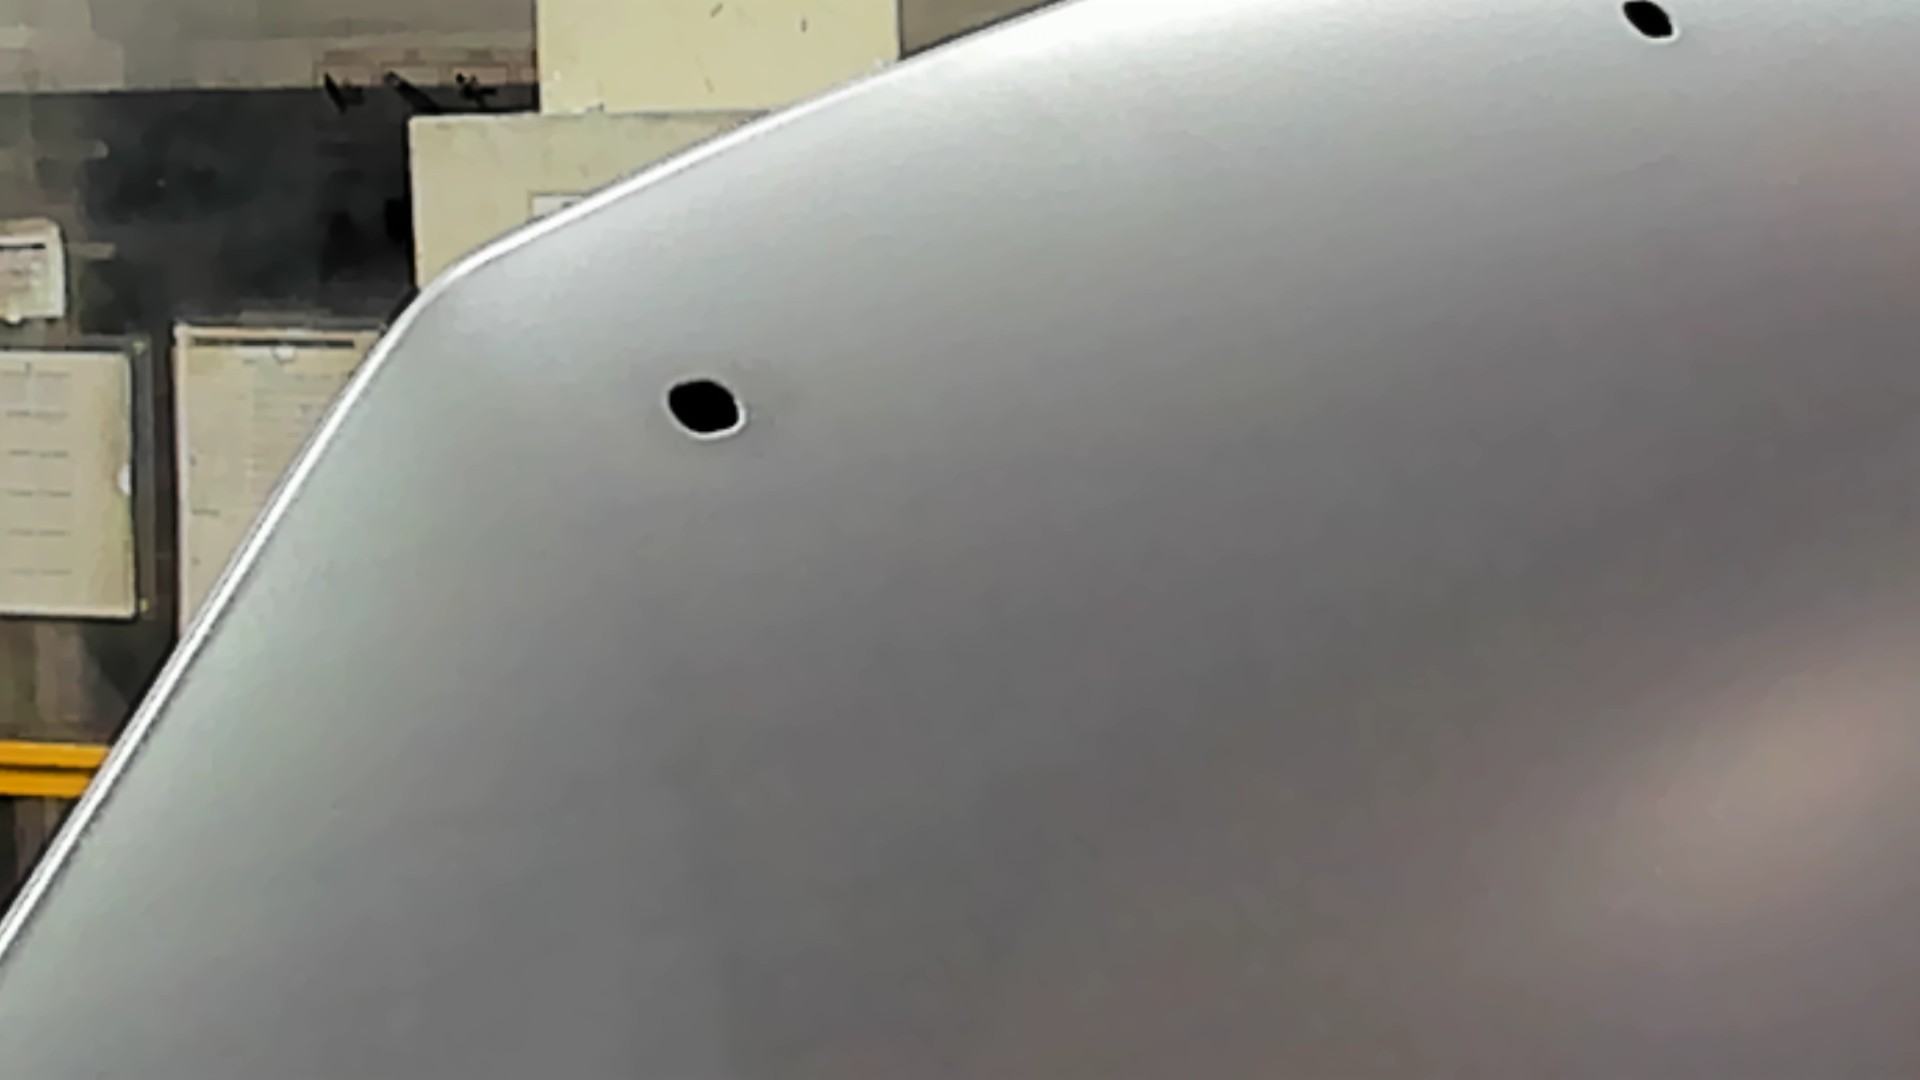amorfo: (661, 369, 750, 447), (1613, 1, 1683, 46)
capo: (870, 146, 1920, 1080)
